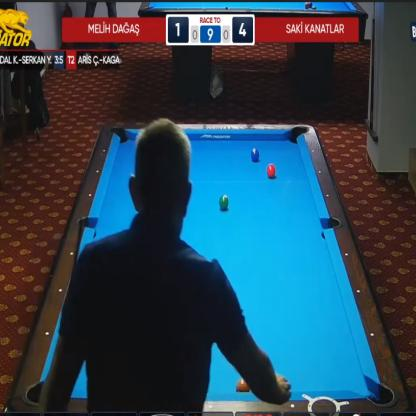Ball: (235, 378, 250, 392), (250, 148, 260, 162), (266, 164, 276, 178), (219, 195, 228, 210)
